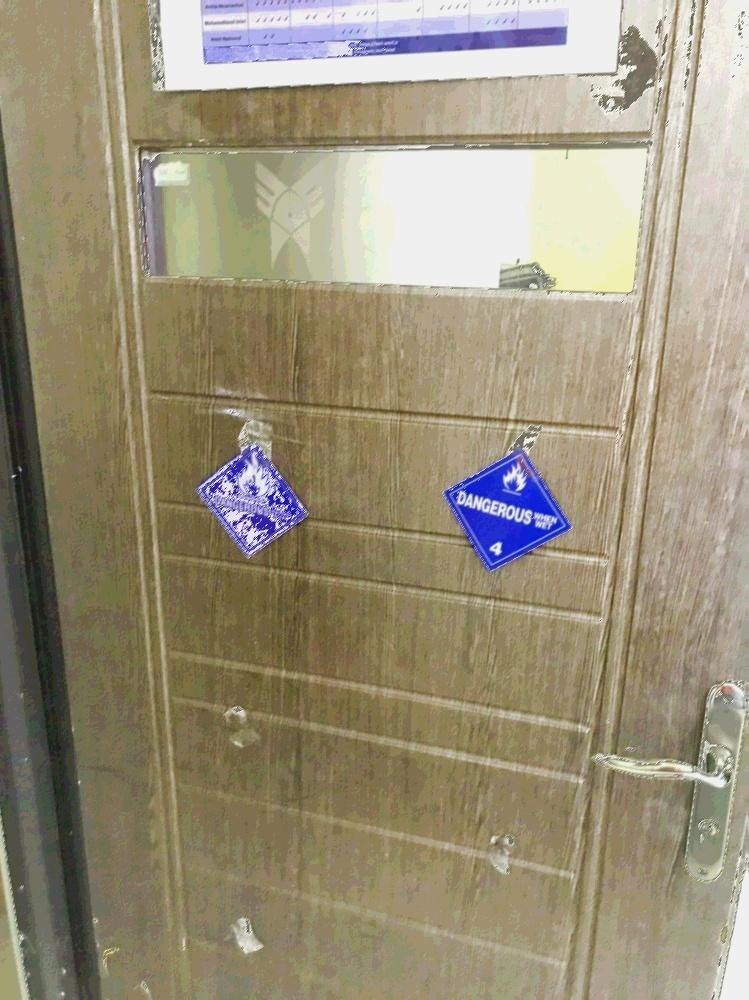dangerous-when-wet: (440, 451, 584, 582), (195, 450, 317, 568)
